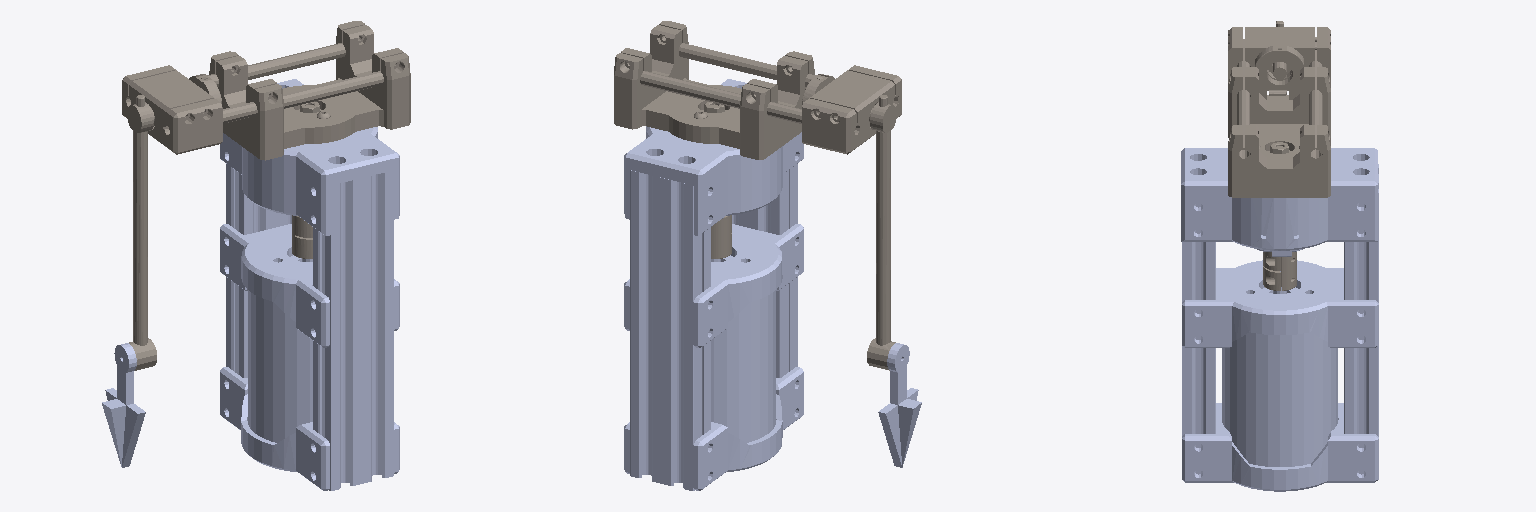
The robot description file, URDF, robot "inverted_pendulum_V2":
<?xml version="1.0" encoding="utf-8"?>
<!-- This URDF was automatically created by SolidWorks to URDF Exporter! Originally created by [author] ([email redacted]) 
     Commit Version: 1.6.0-4-g7f85cfe  Build Version: 1.6.7995.38578
     For more information, please see http://wiki.ros.org/sw_urdf_exporter -->
<robot
  name="inverted_pendulum_V2">
  <link
    name="base_link">
    <inertial>
      <origin
        xyz="4.3501114318801E-06 -4.26974202710965E-05 0.0926893522450359"
        rpy="0 0 0" />
      <mass
        value="0.951310569253784" />
      <inertia
        ixx="0.00149406454043322"
        ixy="4.12697804111014E-09"
        ixz="-7.65282756368046E-08"
        iyy="0.00140648625642533"
        iyz="8.80770910698717E-10"
        izz="0.000630646344660402" />
    </inertial>
    <visual>
      <origin
        xyz="0 0 0"
        rpy="0 0 0" />
      <geometry>
        <mesh
          filename="package://inverted_pendulum_V2/meshes/base_link.STL" />
      </geometry>
      <material
        name="">
        <color
          rgba="0.792156862745098 0.819607843137255 0.933333333333333 1" />
      </material>
    </visual>
    <collision>
      <origin
        xyz="0 0 0"
        rpy="0 0 0" />
      <geometry>
        <mesh
          filename="package://inverted_pendulum_V2/meshes/base_link.STL" />
      </geometry>
    </collision>
  </link>
  <link
    name="revolute_Link">
    <inertial>
      <origin
        xyz="-0.0175370700578145 -0.00016469410235089 0.0011107823181368"
        rpy="0 0 0" />
      <mass
        value="0.216240646404497" />
      <inertia
        ixx="5.58988467068262E-05"
        ixy="-2.47845250293979E-09"
        ixz="-6.15261336732462E-09"
        iyy="8.47733759009359E-05"
        iyz="4.85611321474792E-09"
        izz="0.000107267938774701" />
    </inertial>
    <visual>
      <origin
        xyz="0 0 0"
        rpy="0 0 0" />
      <geometry>
        <mesh
          filename="package://inverted_pendulum_V2/meshes/revolute_Link.STL" />
      </geometry>
      <material
        name="">
        <color
          rgba="0.650980392156863 0.619607843137255 0.588235294117647 1" />
      </material>
    </visual>
    <collision>
      <origin
        xyz="0 0 0"
        rpy="0 0 0" />
      <geometry>
        <mesh
          filename="package://inverted_pendulum_V2/meshes/revolute_Link.STL" />
      </geometry>
    </collision>
  </link>
  <joint
    name="revolute_joint"
    type="revolute">
    <origin
      xyz="0 0 0.2"
      rpy="0 0 0" />
    <parent
      link="base_link" />
    <child
      link="revolute_Link" />
    <axis
      xyz="0 0 1" />
    <limit
      lower="0"
      upper="0"
      effort="0"
      velocity="0" />
  </joint>
  <link
    name="first_pendulum_link">
    <inertial>
      <origin
        xyz="-1.00551614541265E-07 -0.0646186151454772 -0.00362087479361183"
        rpy="0 0 0" />
      <mass
        value="0.0997302210483473" />
      <inertia
        ixx="0.000174588068807012"
        ixy="-2.95045790871012E-10"
        ixz="2.21709158690389E-11"
        iyy="6.96835664909535E-06"
        iyz="5.24978381703527E-07"
        izz="0.000169216758156749" />
    </inertial>
    <visual>
      <origin
        xyz="0 0 0"
        rpy="0 0 0" />
      <geometry>
        <mesh
          filename="package://inverted_pendulum_V2/meshes/first_pendulum_link.STL" />
      </geometry>
      <material
        name="">
        <color
          rgba="0.650980392156863 0.619607843137255 0.588235294117647 1" />
      </material>
    </visual>
    <collision>
      <origin
        xyz="0 0 0"
        rpy="0 0 0" />
      <geometry>
        <mesh
          filename="package://inverted_pendulum_V2/meshes/first_pendulum_link.STL" />
      </geometry>
    </collision>
  </link>
  <joint
    name="first_pendulum_joint"
    type="revolute">
    <origin
      xyz="-0.107 -0.0002 0.023198"
      rpy="1.5708 0 -1.5708" />
    <parent
      link="revolute_Link" />
    <child
      link="first_pendulum_link" />
    <axis
      xyz="0 0 1" />
    <limit
      lower="0"
      upper="0"
      effort="0"
      velocity="0" />
  </joint>
  <link
    name="second_pendulum_link">
    <inertial>
      <origin
        xyz="-2.87657557287101E-06 -0.0299439674255459 0.00119447713150889"
        rpy="0 0 0" />
      <mass
        value="0.00680601326910171" />
      <inertia
        ixx="1.8911424822564E-06"
        ixy="-9.84322860789567E-12"
        ixz="2.35767361175263E-10"
        iyy="2.84550526022121E-07"
        iyz="3.87915762114475E-08"
        izz="2.05641965585819E-06" />
    </inertial>
    <visual>
      <origin
        xyz="0 0 0"
        rpy="0 0 0" />
      <geometry>
        <mesh
          filename="package://inverted_pendulum_V2/meshes/second_pendulum_link.STL" />
      </geometry>
      <material
        name="">
        <color
          rgba="0.792156862745098 0.819607843137255 0.933333333333333 1" />
      </material>
    </visual>
    <collision>
      <origin
        xyz="0 0 0"
        rpy="0 0 0" />
      <geometry>
        <mesh
          filename="package://inverted_pendulum_V2/meshes/second_pendulum_link.STL" />
      </geometry>
    </collision>
  </link>
  <joint
    name="second_pendulum_joint"
    type="revolute">
    <origin
      xyz="0 -0.1432 0.0095"
      rpy="0 0 0" />
    <parent
      link="first_pendulum_link" />
    <child
      link="second_pendulum_link" />
    <axis
      xyz="0 0 1" />
    <limit
      lower="0"
      upper="0"
      effort="0"
      velocity="0" />
  </joint>
</robot>

--- Facts derived from the render (not from the file) ---
3 views of the same robot in one strip: view 1: azimuth 30°, elevation 25°; view 2: azimuth 150°, elevation 25°; view 3: azimuth 270°, elevation 25° (orthographic).
Model inverted_pendulum_V2 with 4 links and 3 joints (3 revolute), rooted at base_link, posed all joints at 0.
Visible links, largest first — view 1: base_link, revolute_Link, first_pendulum_link, second_pendulum_link; view 2: base_link, revolute_Link, first_pendulum_link, second_pendulum_link; view 3: base_link, revolute_Link.
Boxes of the visible links, left/top/right/bottom form: base_link: left=220, top=79, right=399, bottom=490; revolute_Link: left=122, top=21, right=410, bottom=258; first_pendulum_link: left=127, top=95, right=156, bottom=370; second_pendulum_link: left=102, top=343, right=145, bottom=467; base_link: left=624, top=79, right=803, bottom=490; revolute_Link: left=614, top=21, right=901, bottom=258; first_pendulum_link: left=867, top=95, right=896, bottom=370; second_pendulum_link: left=878, top=343, right=921, bottom=467; base_link: left=1181, top=148, right=1378, bottom=491; revolute_Link: left=1228, top=27, right=1330, bottom=290.
Size in the robot's own frame: 0.1765 by 0.1152 by 0.238 metres.
4 mesh visuals loaded from 4 distinct referenced files (4 binary STL).